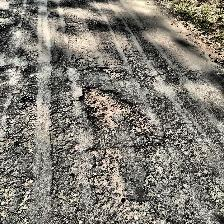pothole: (78, 86, 144, 132), (20, 95, 36, 111)
